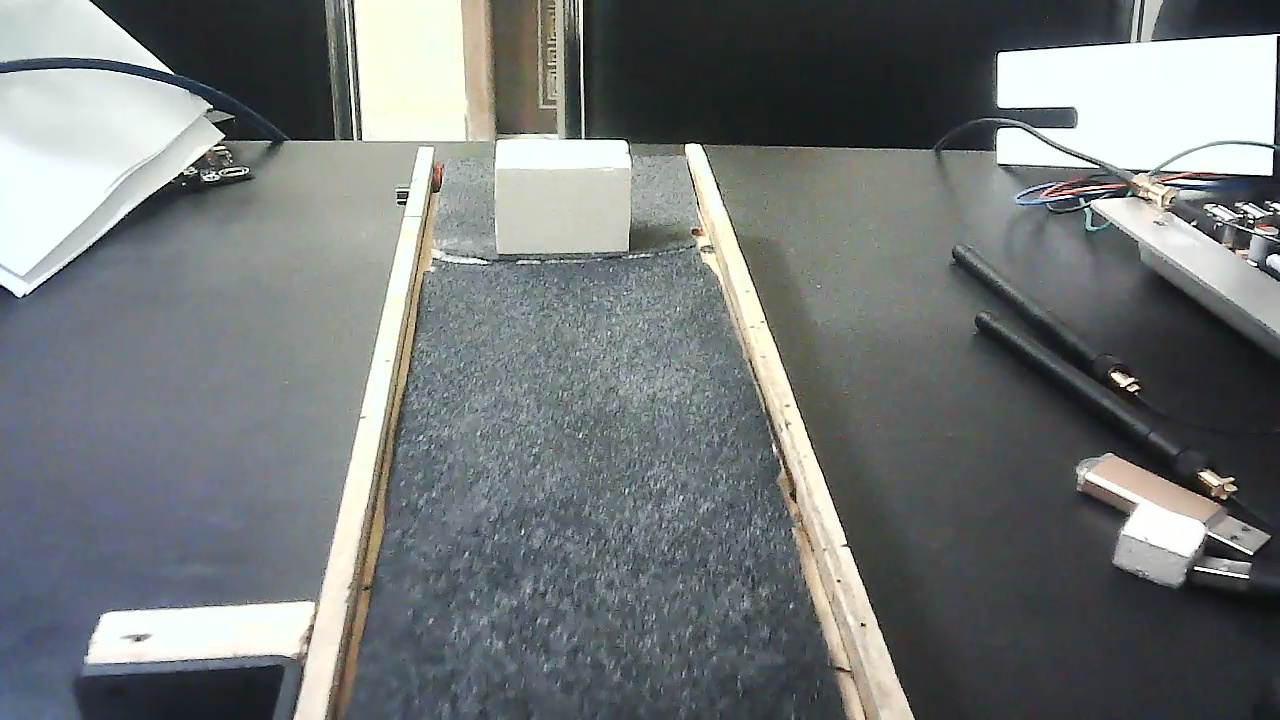BIG: (496, 129, 632, 265)
